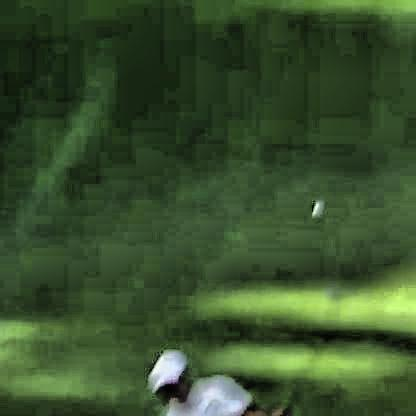golfball: (307, 190, 320, 214)
